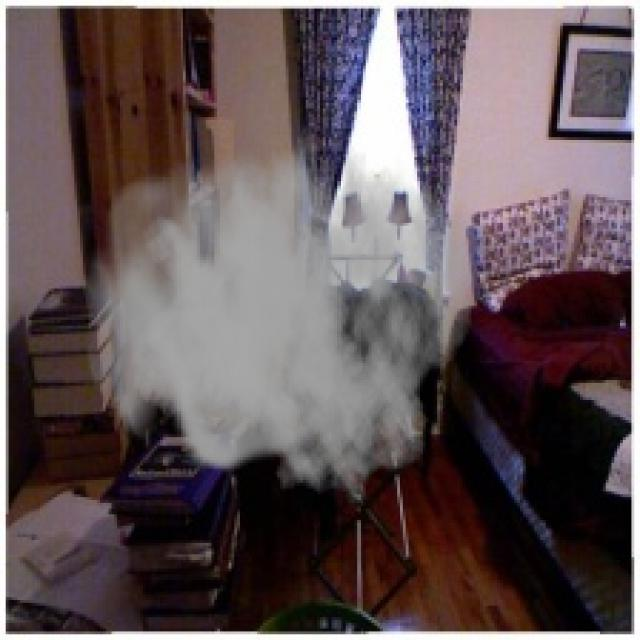smoke: (83, 106, 474, 506)
